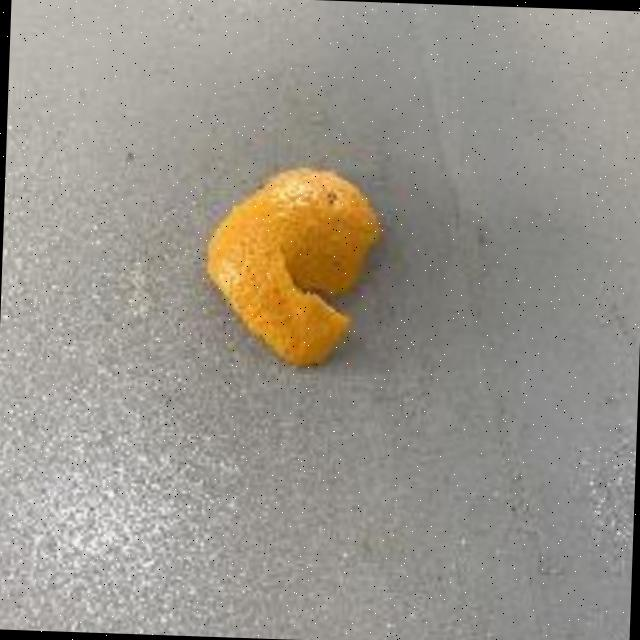orange-peel: (200, 160, 383, 370)
